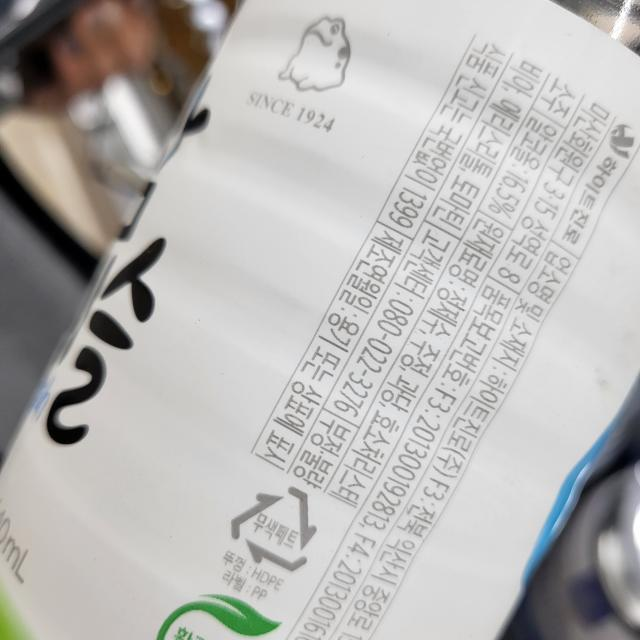ColorlessPET: (227, 480, 318, 574)
